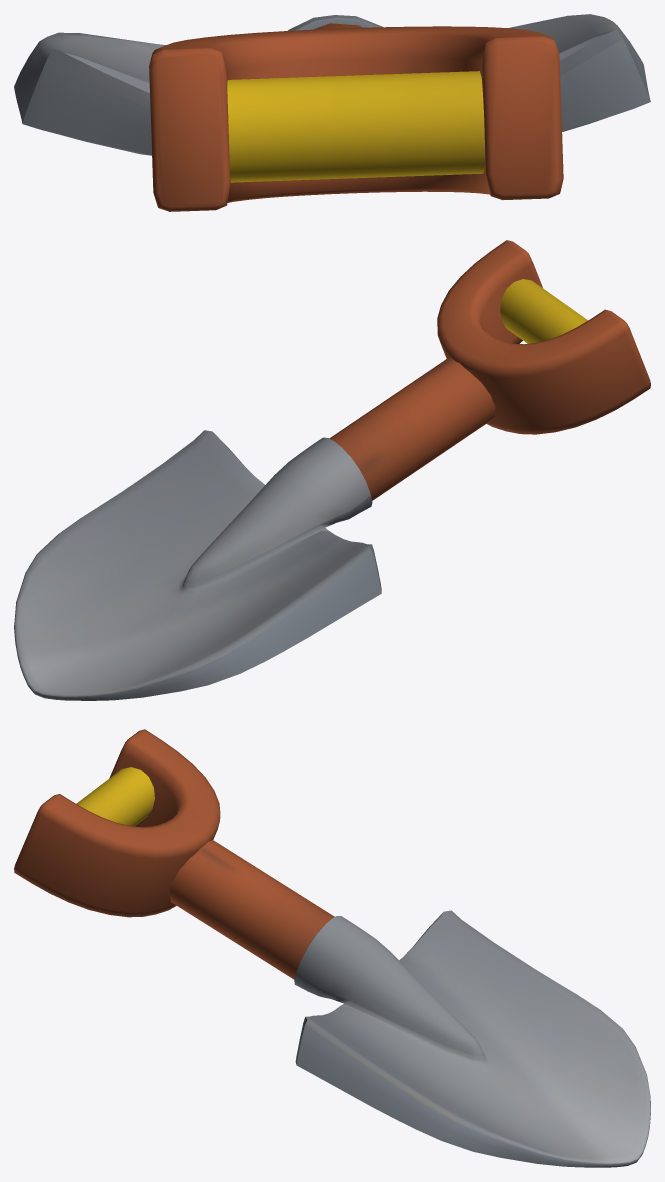
File: Shovel.fbx
3 renders of one model, top to bottom at view 1: azimuth 30°, elevation 25°; view 2: azimuth 150°, elevation 25°; view 3: azimuth 270°, elevation 25°, orthographic. The views are drawn at different scales.
Parts seen in each view (by area): view 1: Shovel; view 2: Shovel; view 3: Shovel.
Part boxes in pixels (bbox=[...]): Shovel: bbox=[14, 14, 650, 211]; Shovel: bbox=[14, 240, 650, 700]; Shovel: bbox=[14, 729, 650, 1167].
Size of the model in its own units: 12.32 by 7.54 by 15.83.
